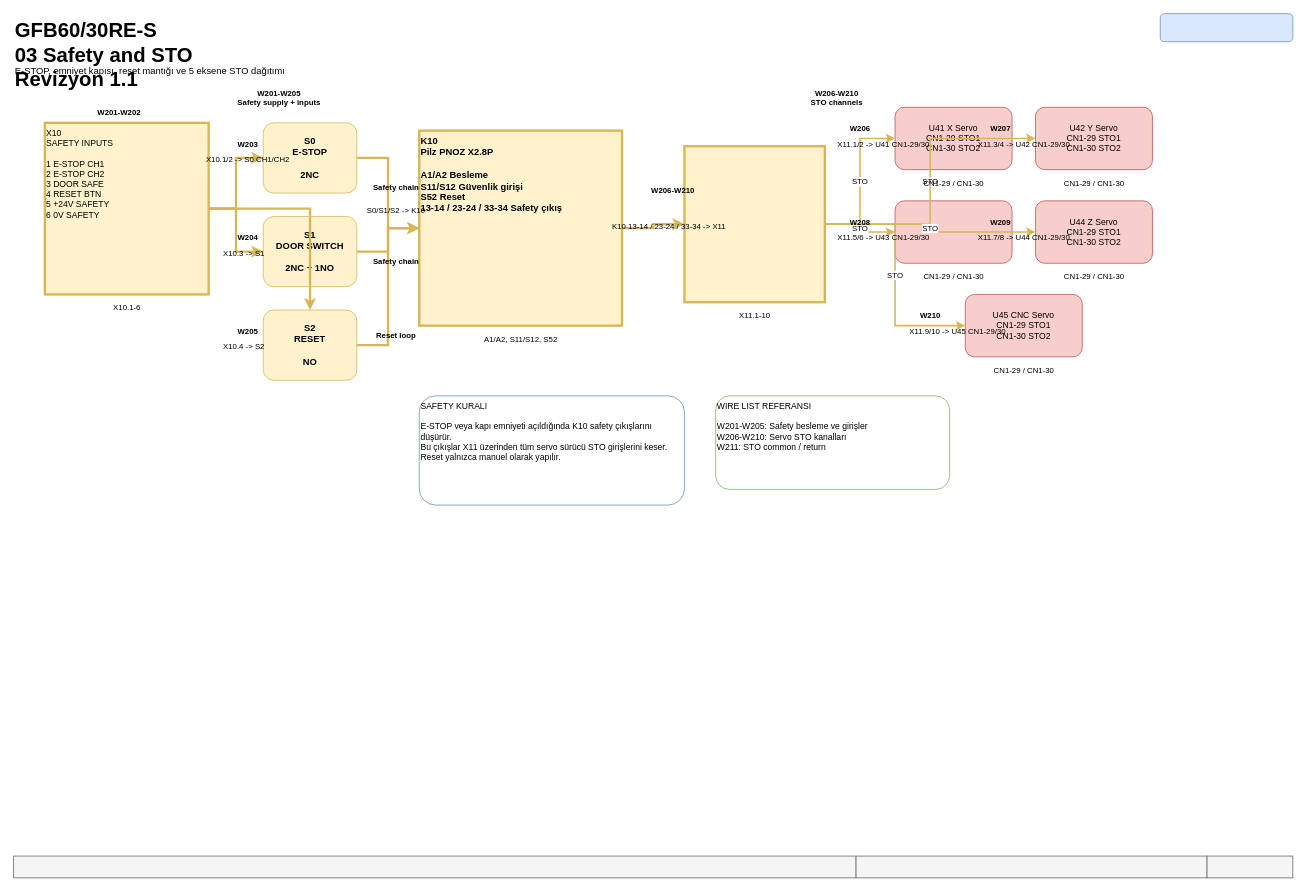
Image size: 1307x892. Some labels were removed from this diagram. Here are the shapes that lost their labels. From the top down, the box of each, then its label:
(1159, 13, 1293, 42): PAGE 03 / SAFETY Rev 1.1
(683, 145, 826, 303): X11 STO OUTPUTS 1-2 X 3-4 Y 5-6 ALT 7-8 Z 9-10 CNC
(894, 200, 1012, 263): U43 ALT Servo CN1-29 STO1 CN1-30 STO2
(13, 855, 856, 878): Rev 1.1 | Safety and STO | Pilz PNOZ + 5 eksen STO dağıtımı
(855, 855, 1207, 878): Prepared in Codex workspace
(1206, 855, 1293, 878): Sheet 3 / 4
